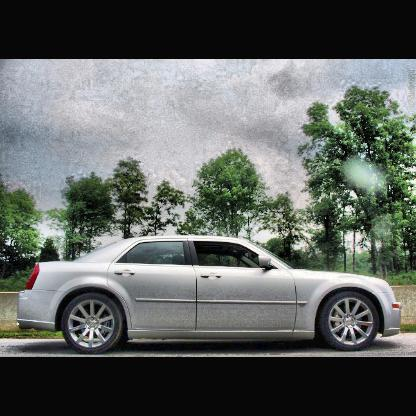Chrysler 300 SRT-8 2010: (19, 233, 404, 355)
